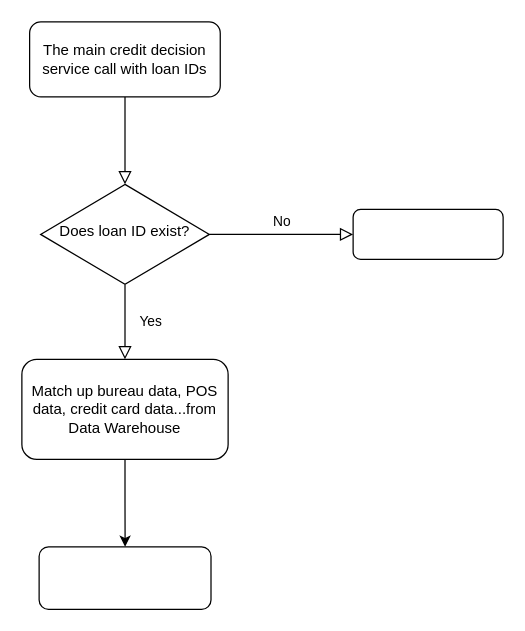
Image size: 525x631. Some labels were removed from this diagram. Each missing label, with the centre of its shape:
"Return -1" belongs at (x=427, y=233).
"Return default probability" belongs at (x=124, y=577).
